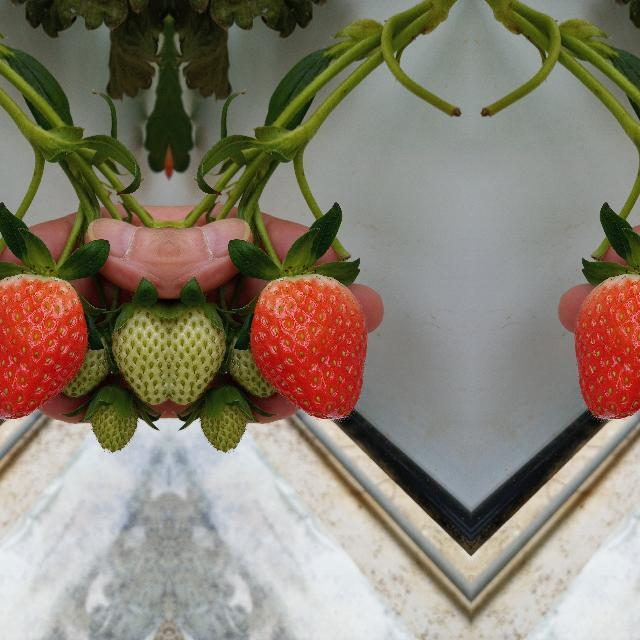Health_100: (247, 274, 367, 421), (0, 273, 89, 420), (574, 273, 640, 420)
Health_25: (170, 282, 230, 413), (106, 282, 166, 413), (192, 382, 248, 454), (88, 382, 144, 454)
